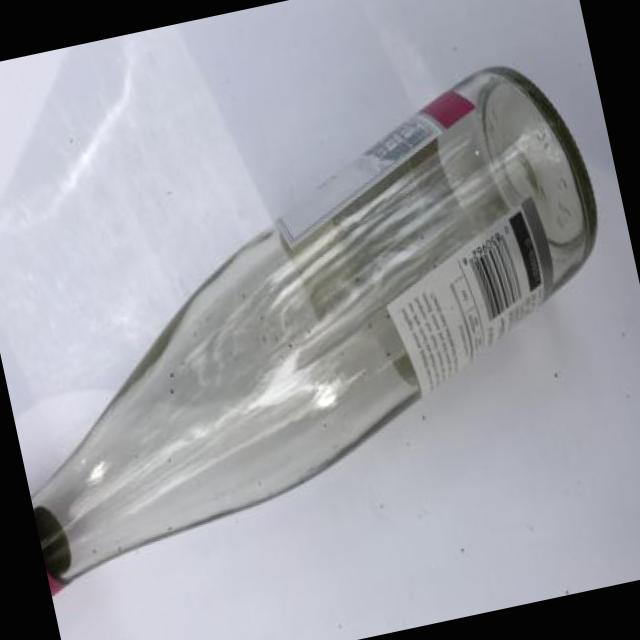chai_thuy_tinh: (31, 65, 598, 594)
